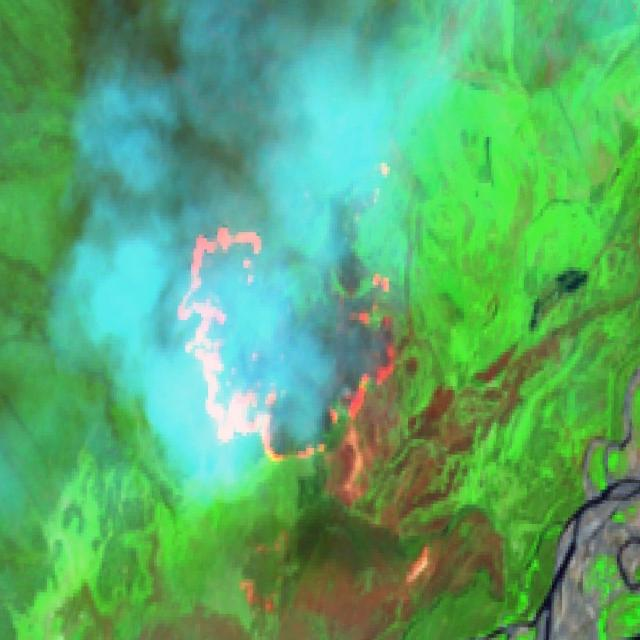fire: (168, 204, 407, 473)
